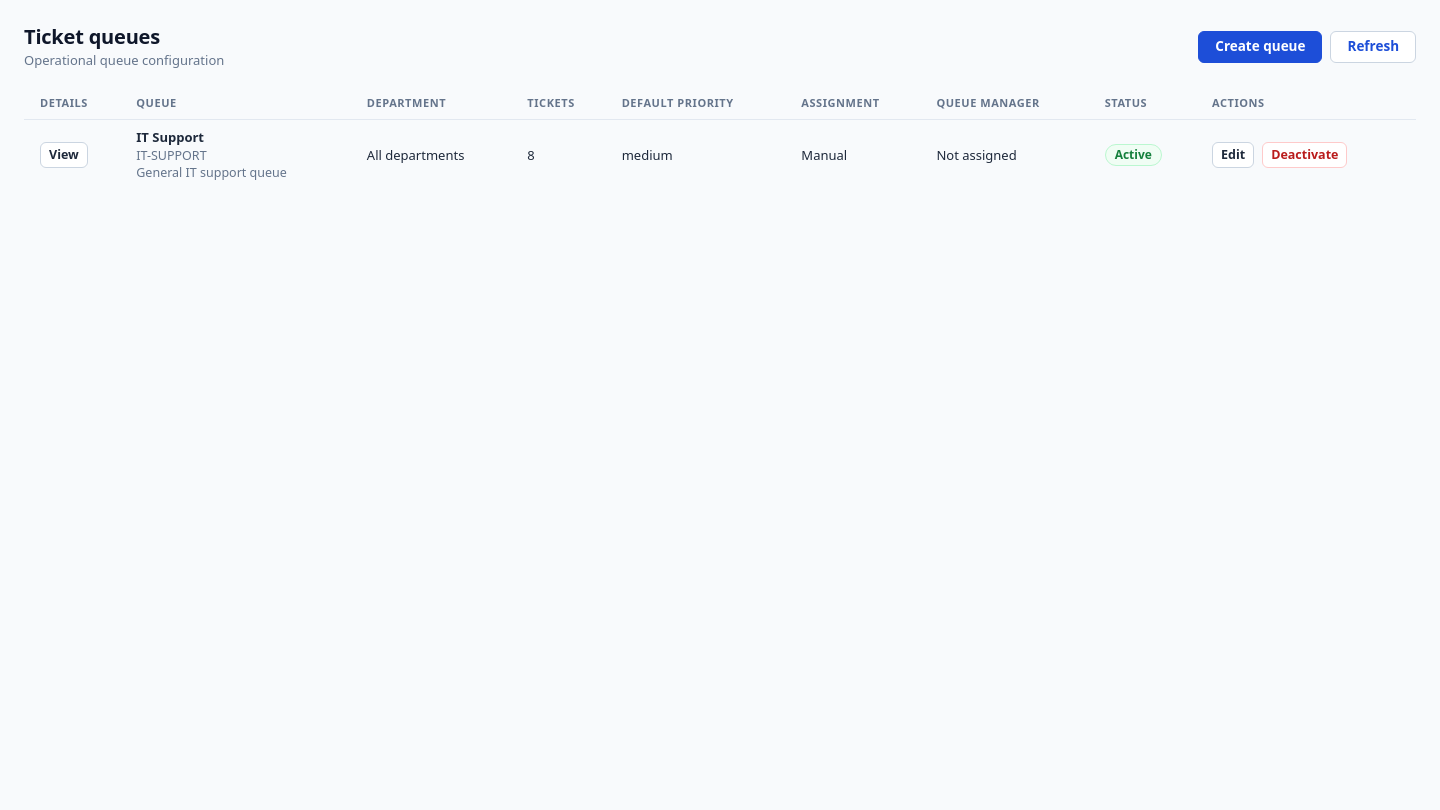
TicketQueuesPage › loads queue metrics, member workload and tickets when View is clicked
Click the button "View".
click(64, 155)  # box [40,142,88,168]
(page scrolled)
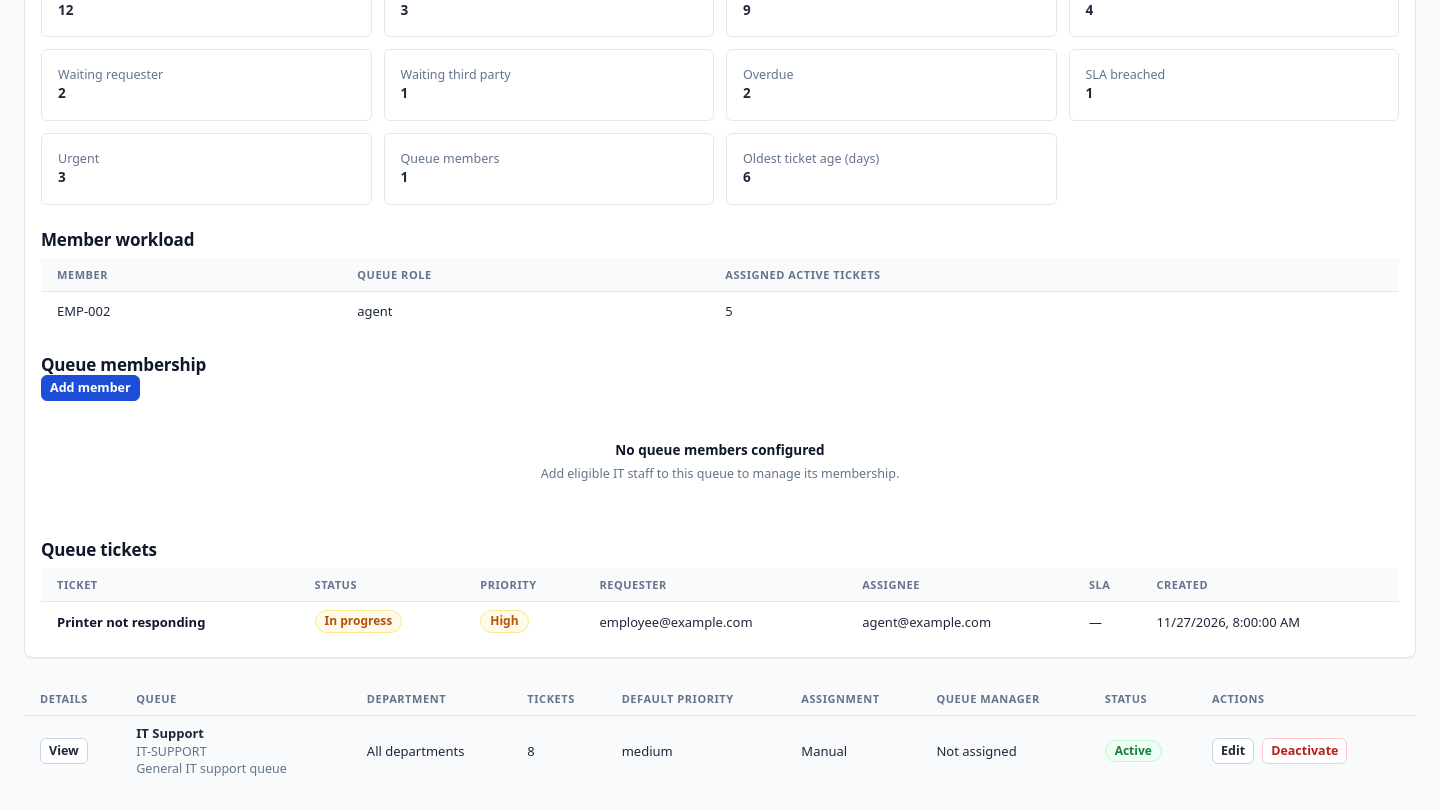
Expected: the text "12" is shown, [58,1,74,19]
Expected: the text "EMP-002" is shown, [41,292,345,330]
Expected: the text "5" is shown, [713,292,1399,330]
